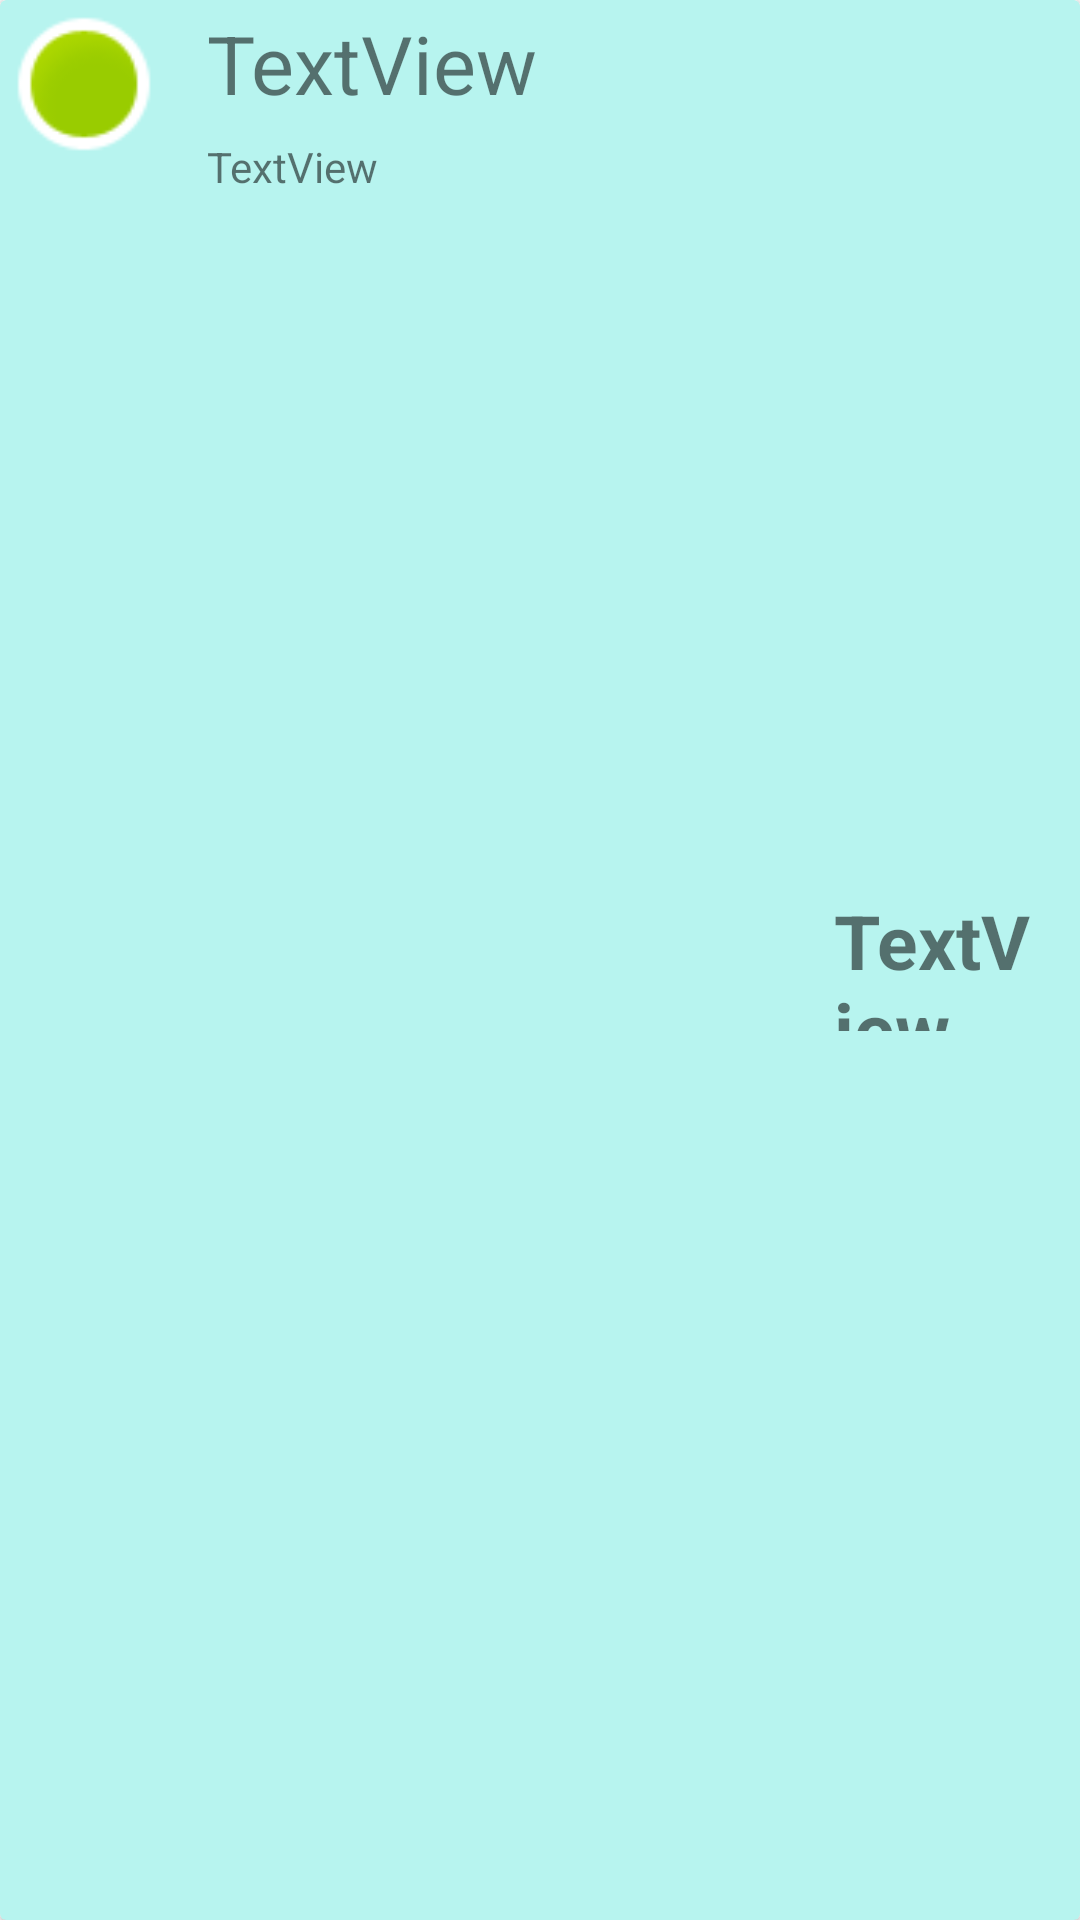

Screen size 1080px×1920px. Icon name, then its center in pixels as point (x, y):
presence online: point (84, 84)
